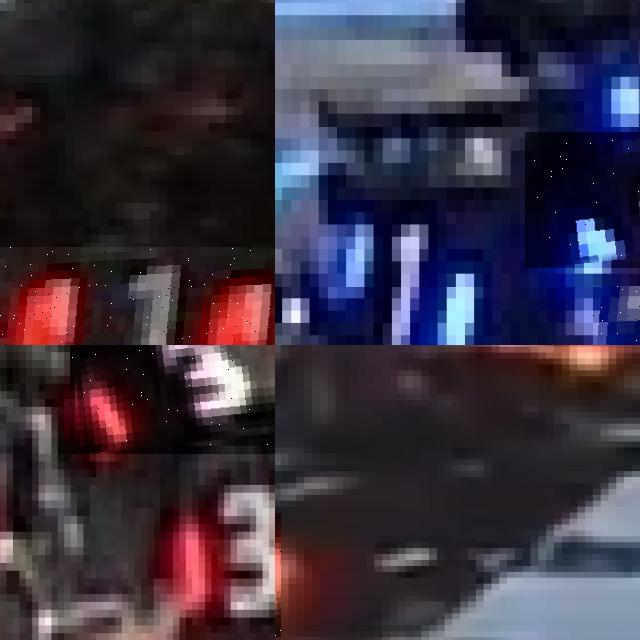B1: (305, 181, 488, 345), (524, 132, 640, 267)
R1: (0, 247, 275, 345)
R3: (70, 345, 275, 453), (173, 469, 275, 617)
